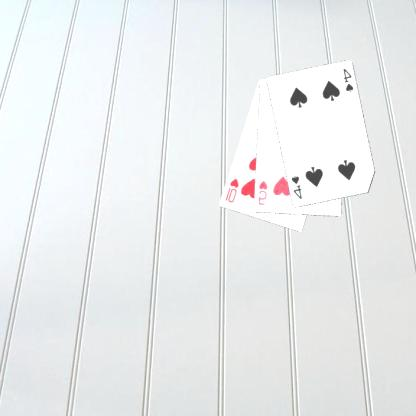10H: (224, 175, 242, 204)
4S: (290, 173, 305, 200), (342, 66, 356, 94)
5H: (257, 178, 270, 207)
